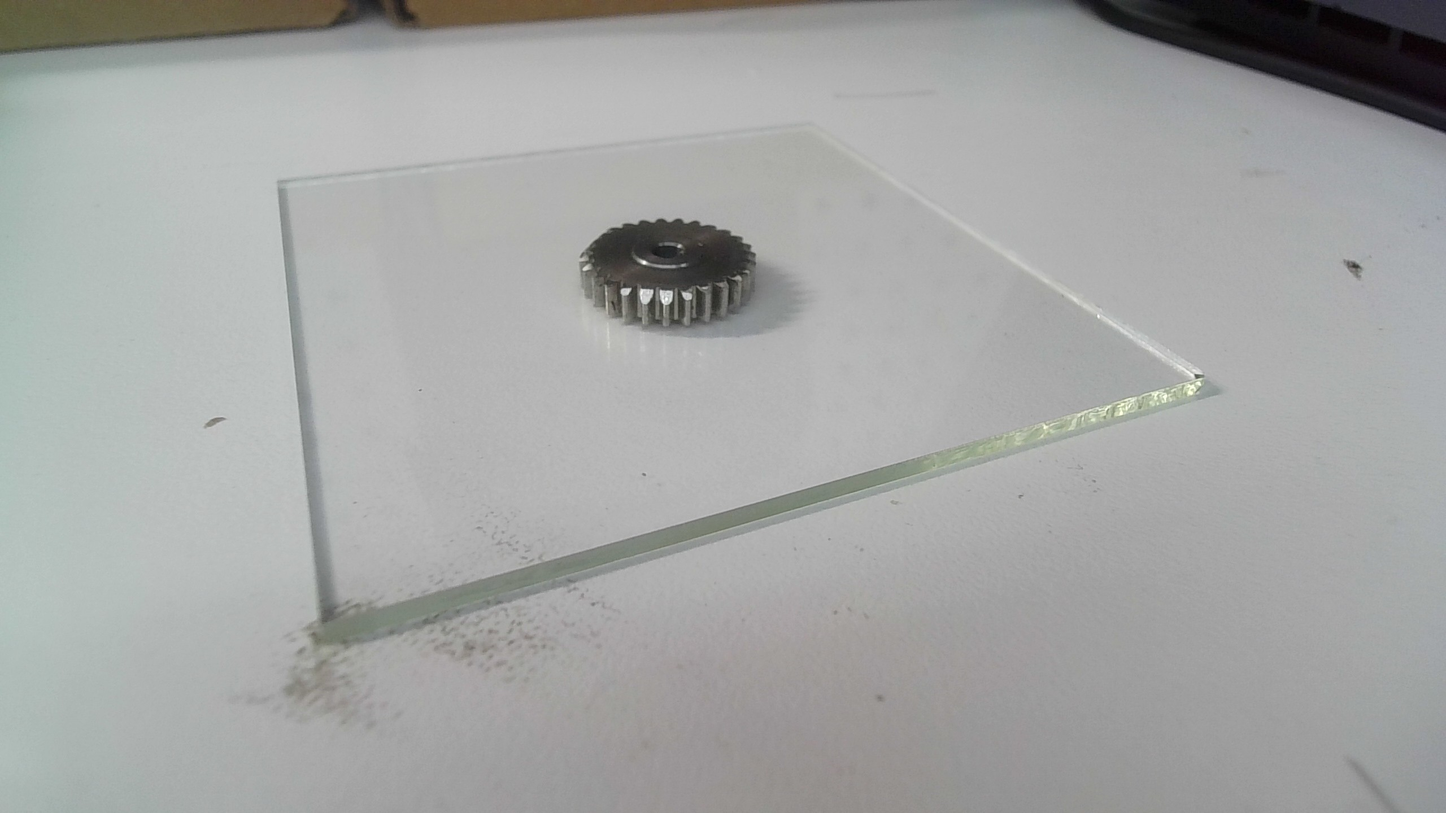gear: (576, 216, 762, 333)
